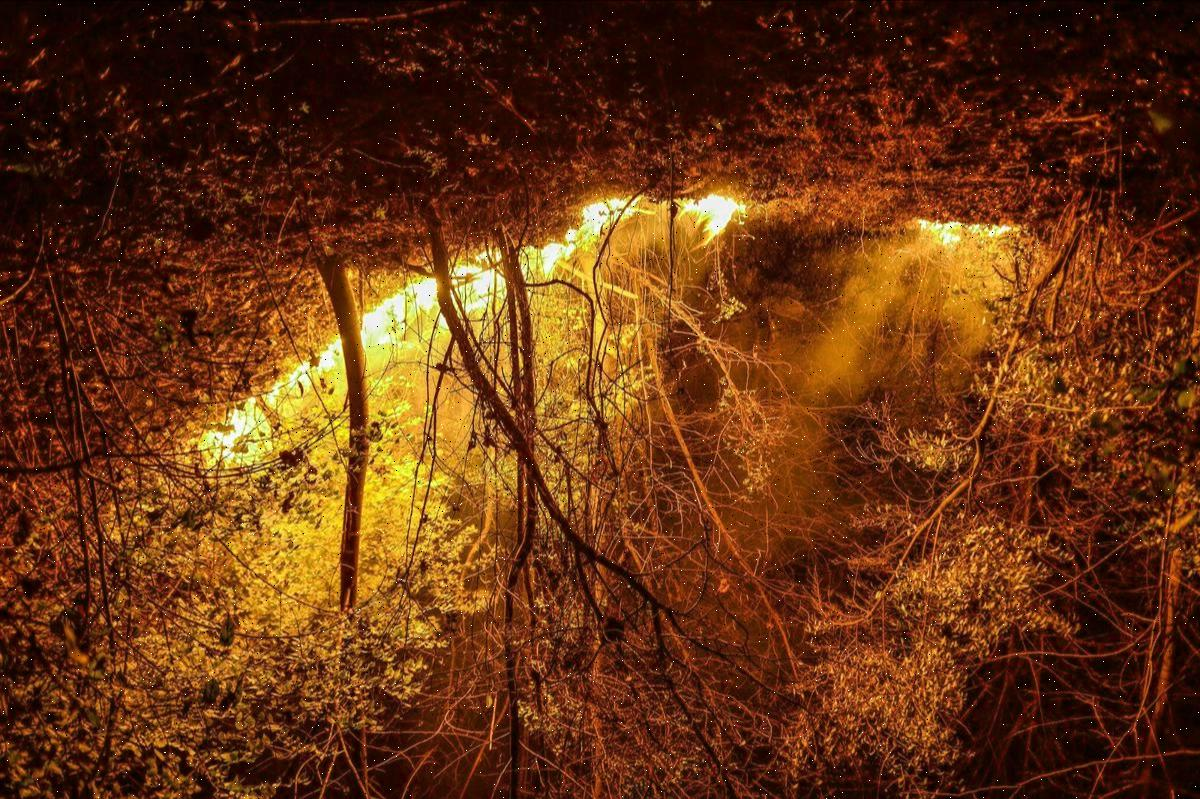fire: (173, 189, 770, 453), (884, 198, 1032, 278)
